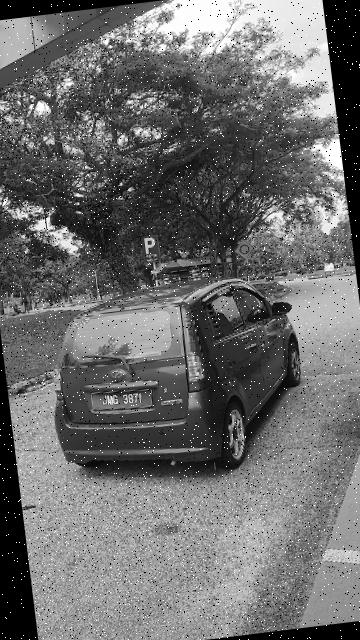License_Plate: (86, 386, 159, 417)
car: (42, 264, 323, 484)
